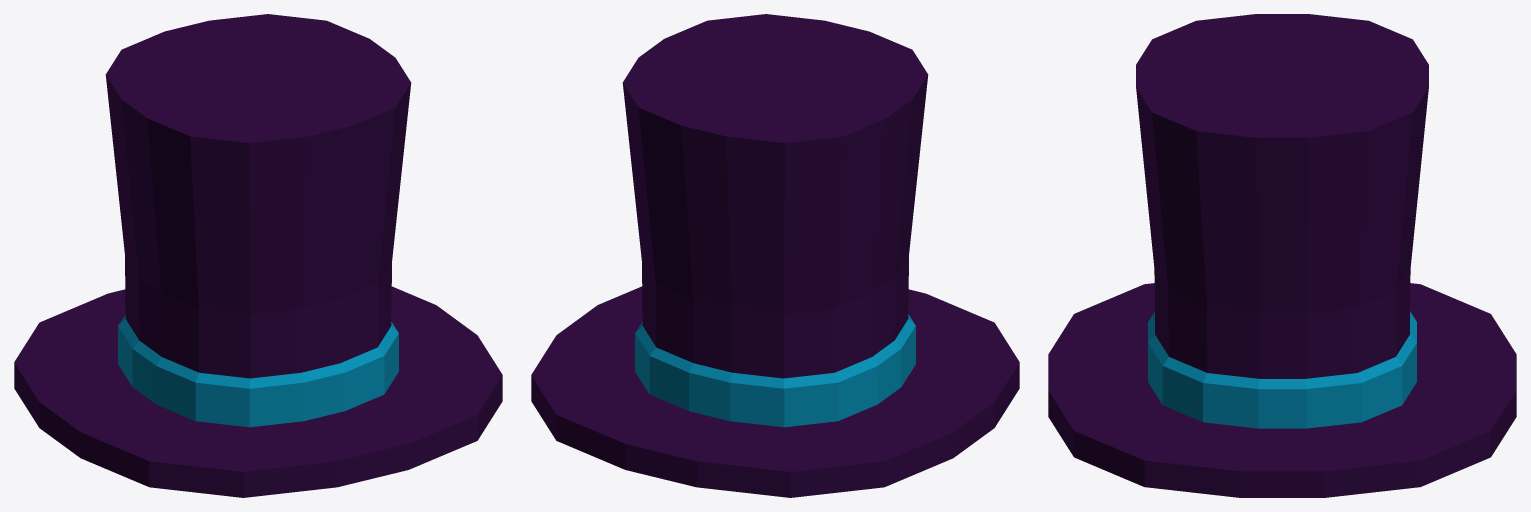
The model's file is TopHat.fbx.
The picture shows the model from 3 angles, left to right: view 1: azimuth 30°, elevation 25°; view 2: azimuth 150°, elevation 25°; view 3: azimuth 270°, elevation 25°; orthographic projection. The views are drawn at different scales.
Parts seen in each view (by area): view 1: TopHat; view 2: TopHat; view 3: TopHat.
Part boxes in pixels (box(x1,y1,x2,y2)): TopHat: box(14, 14, 502, 497); TopHat: box(531, 14, 1019, 497); TopHat: box(1048, 14, 1516, 497).
Bounding box in the file's own units: 348 × 265 × 348.
1 material, 1 textured.
